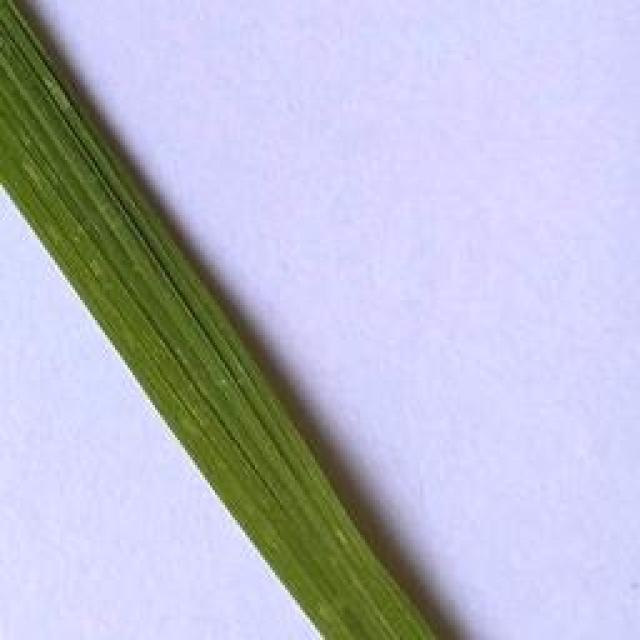Healthy-Plant: (3, 3, 435, 640)
